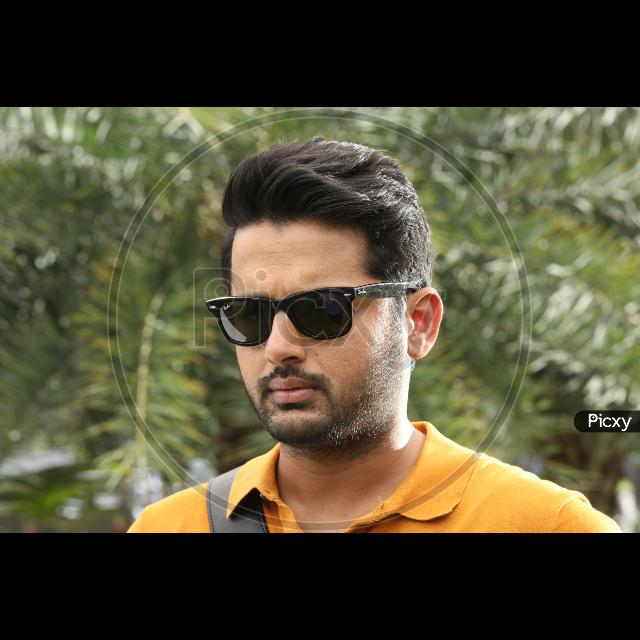Sunglasses: (204, 277, 396, 343)
